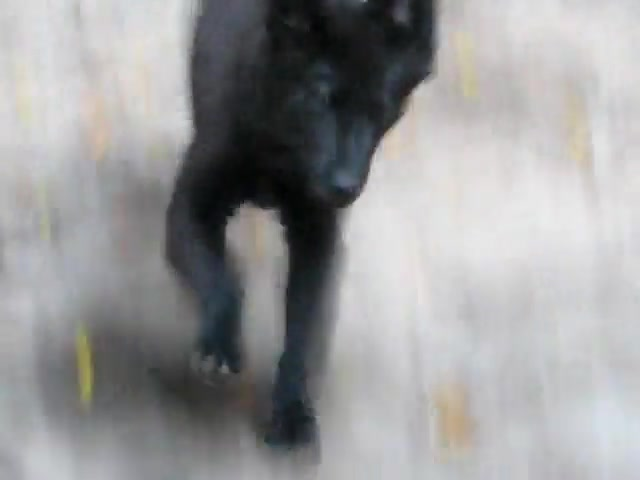dog: (165, 1, 441, 451)
